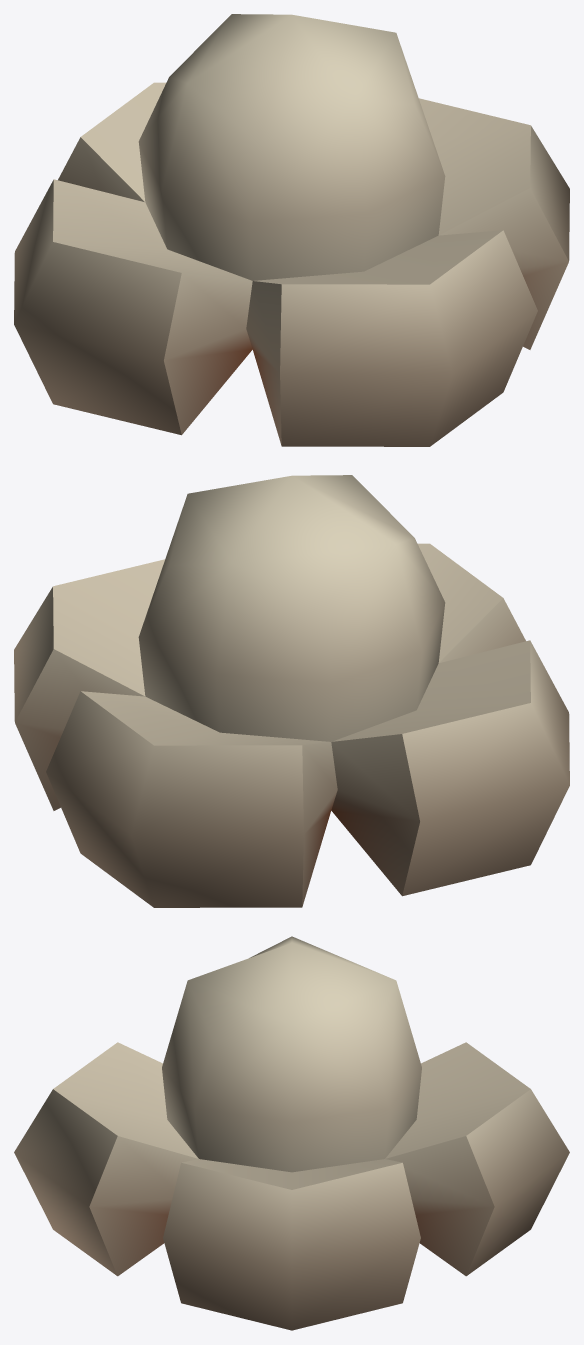
The model's file is consumables-junkfood-popcorn_v1.glb.
3 views of the same model, one above another, from view 1: azimuth 30°, elevation 25°; view 2: azimuth 150°, elevation 25°; view 3: azimuth 270°, elevation 25° (orthographic). The views are drawn at different scales.
Parts seen in each view (by area): view 1: Popcorn_v1; view 2: Popcorn_v1; view 3: Popcorn_v1.
Part boxes in pixels (bbox=[...]): Popcorn_v1: bbox=[14, 14, 569, 446]; Popcorn_v1: bbox=[14, 475, 569, 907]; Popcorn_v1: bbox=[14, 936, 569, 1330].
Bounding box in the file's own units: 0.0381 × 0.0217 × 0.0381.
